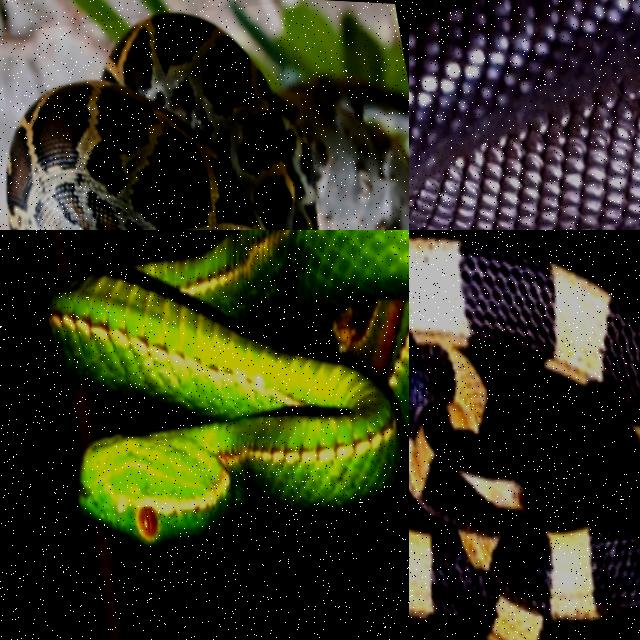Bungarus fasciatus: (409, 236, 639, 639)
Naja kaouthia: (409, 0, 639, 229)
Python bivittatus: (8, 14, 316, 229)
Trimeresurus: (49, 230, 408, 547)
